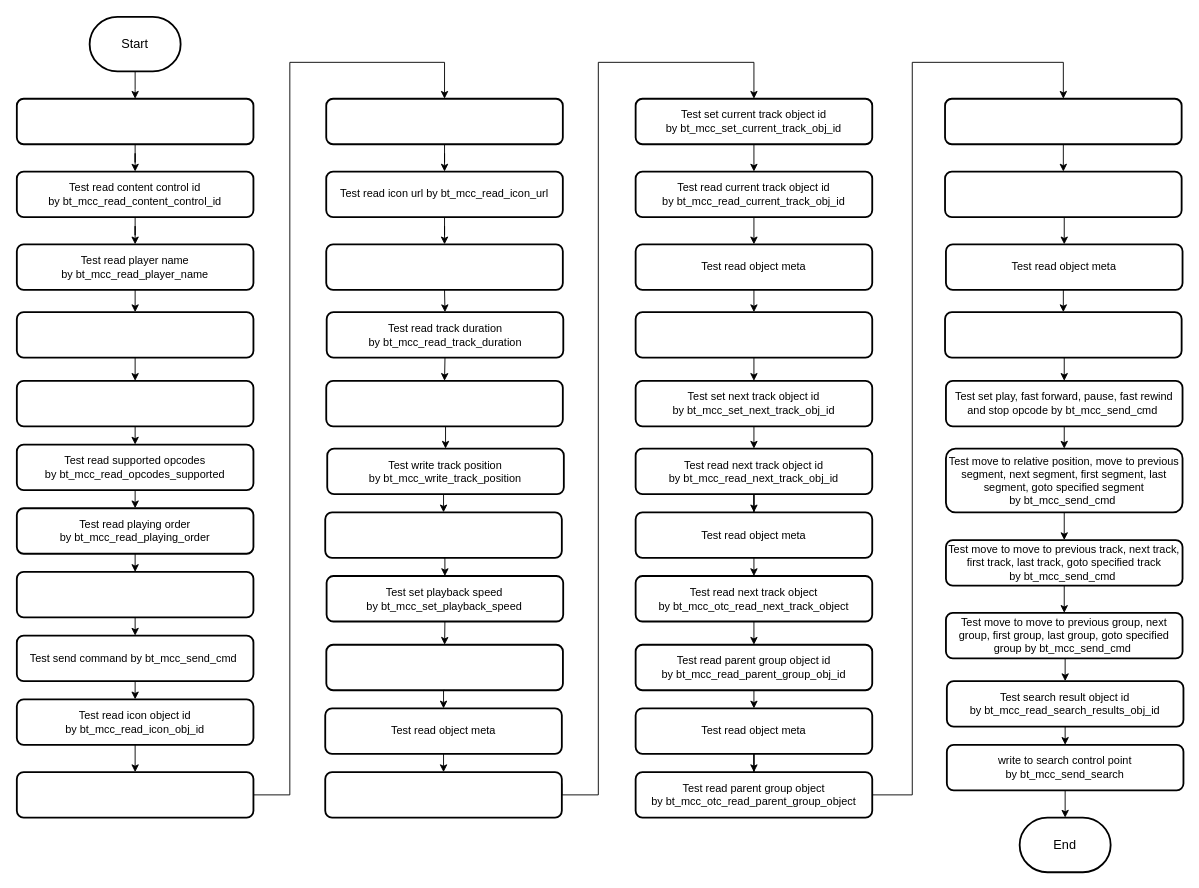
The diagram is 1199 pixels wide and 888 high, and some of its shapes have lost their labels. Here are the shapes that lost their labels. From the top down, the centre of each, then its label:
At pixel 134 121: "Test read media state by bt_mcc_read_media_state".
At pixel 444 121: "Test read icon object by bt_mcc_otc_read_icon_object".
At pixel 1063 121: "Test set current group object id by bt_mcc_set_current_group_obj_id".
At pixel 1063 193: "Test read current group object id by bt_mcc_read_current_group_obj_id".
At pixel 444 266: "Test read reack title by bt_mcc_read_track_title".
At pixel 134 334: "Test read seeking speed by bt_mcc_read_seeking_speed".
At pixel 753 334: "Test read current track object by bt_mcc_otc_read_current_track_object".
At pixel 1063 334: "Test read current group object by bt_mcc_otc_read_current_group_object".
At pixel 134 403: "Test read supported playing orders by bt_mcc_read_playing_orders_supported".
At pixel 444 403: "Test read track position by bt_mcc_read_track_position".
At pixel 443 534: "Test read playback speed by bt_mcc_read_playback_speed".
At pixel 134 594: "test set playing order by bt_mcc_set_playing_order".
At pixel 444 667: "Test read track segments object id by bt_mcc_read_segments_obj_id".
At pixel 134 794: "Test read object metadata by bt_mcc_otc_read_object_metadata".
At pixel 443 794: "Test read track segments object by bt_mcc_otc_read_track_segments_object".
